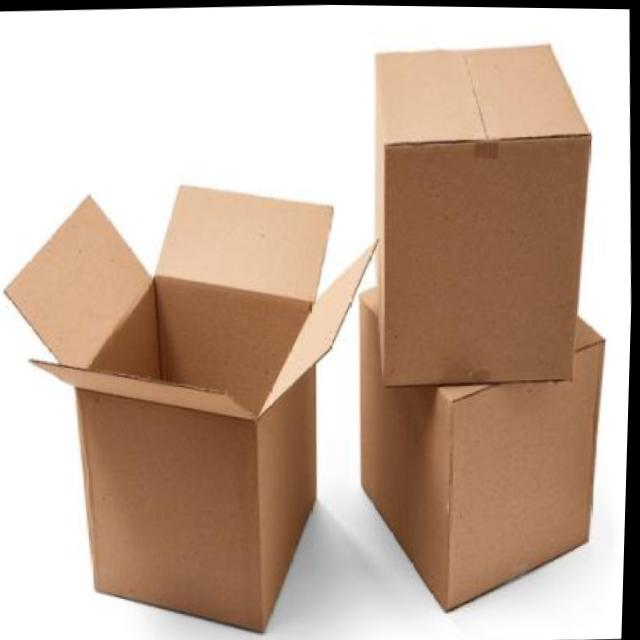box: (0, 82, 395, 640), (339, 278, 622, 640), (347, 25, 607, 407)
